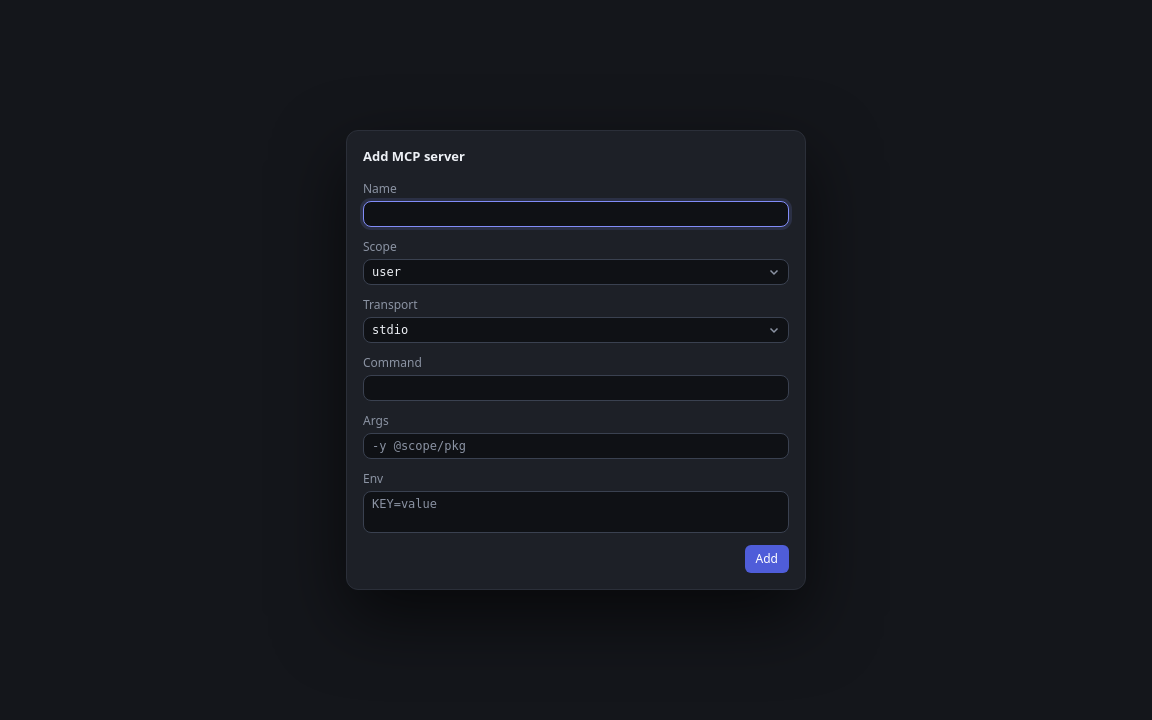
Test: McpAddDialog › stays open and shows the error on a failed submit
Type "pw" into the field labelled "Name" at point(576, 214), box [363,201,789,227]
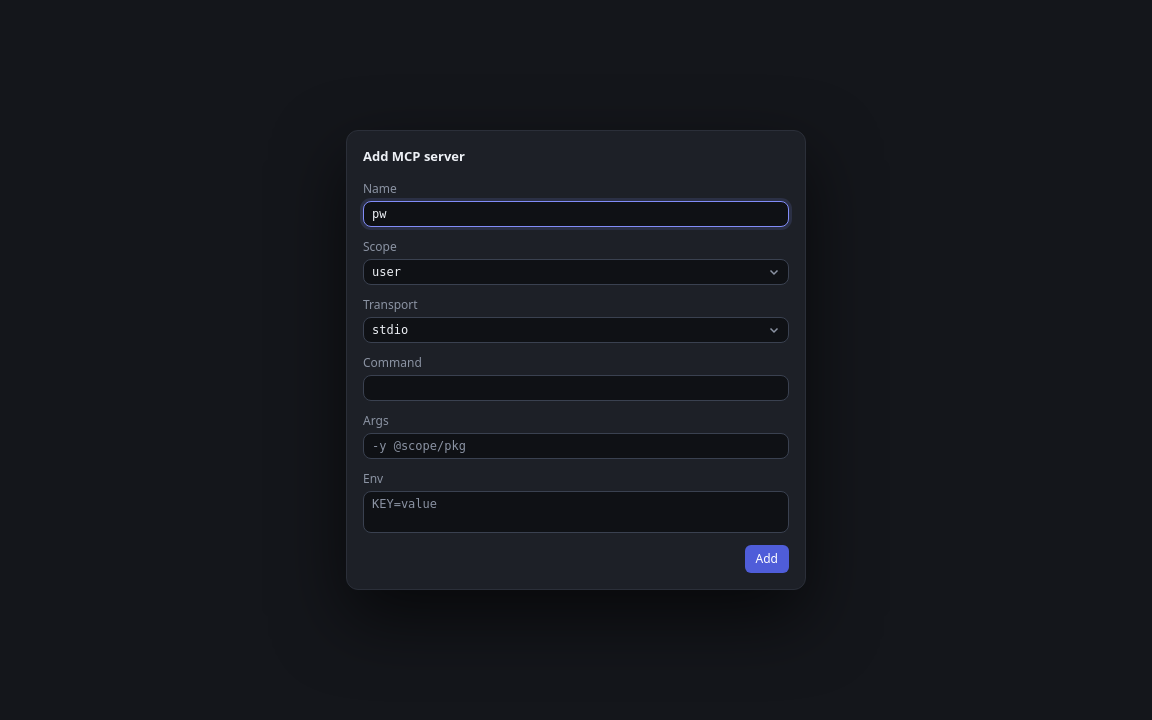
Type "npx" into the field labelled "Command" at point(576, 388), box [363,375,789,401]
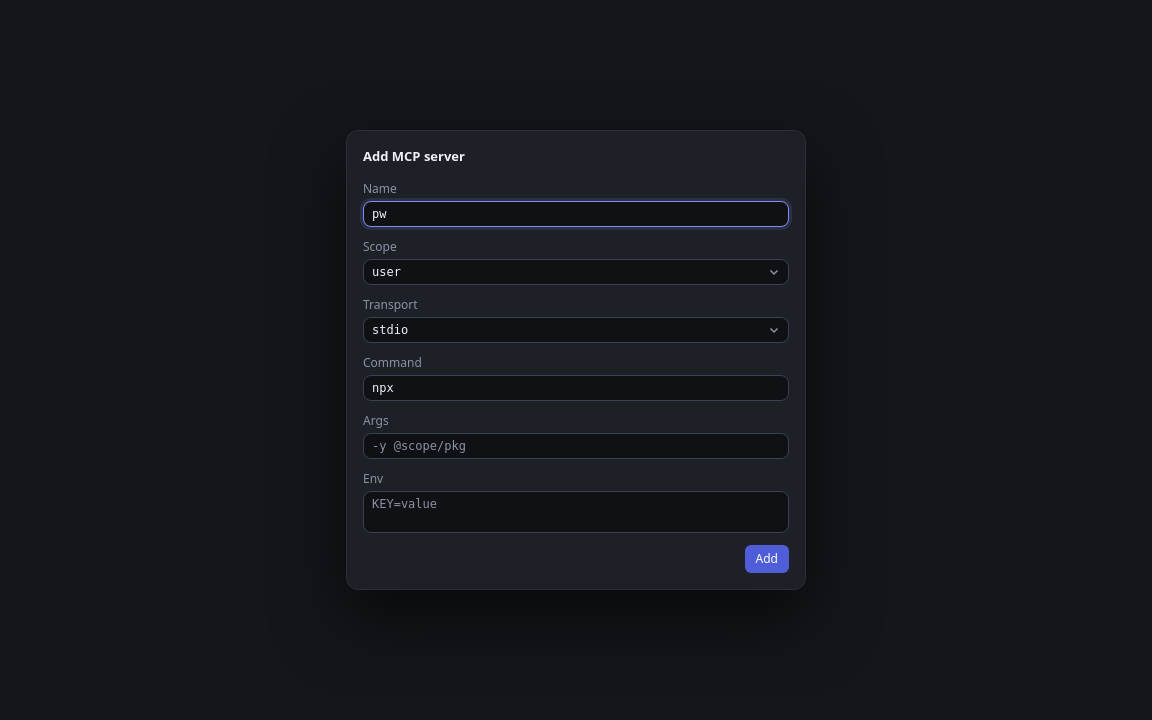
Click the button "Add" at point(767, 559), box [745,545,789,573]
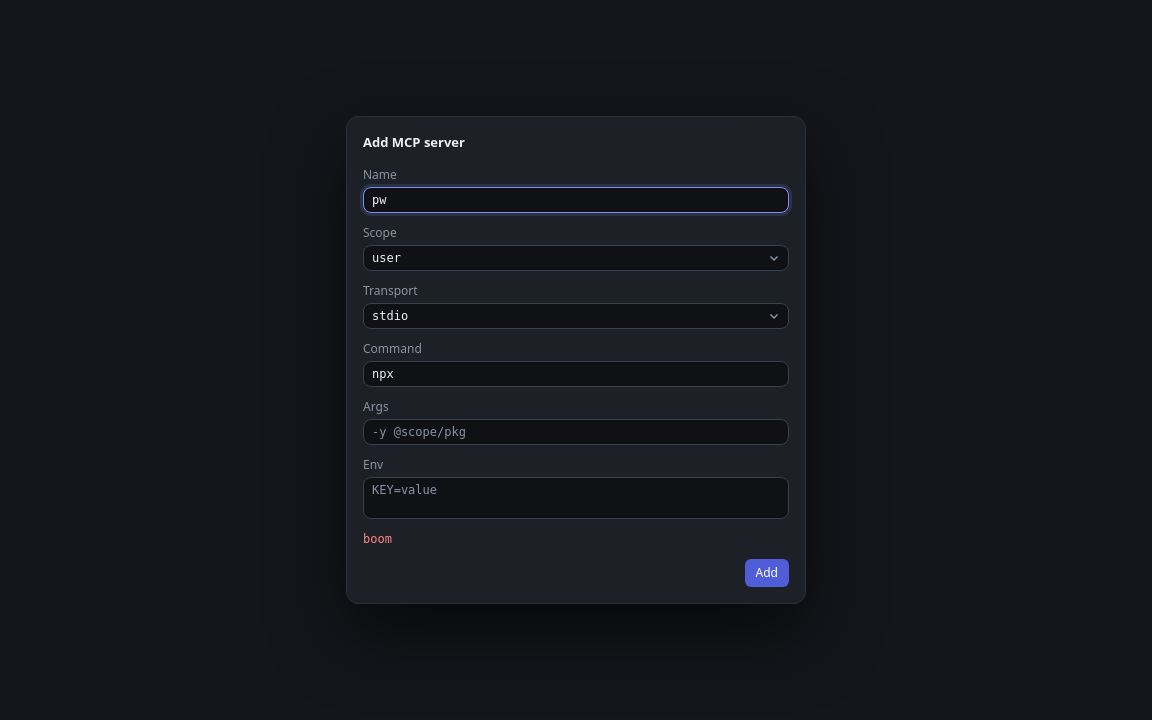
Expected: the message reads "boom", [363,532,392,546]
